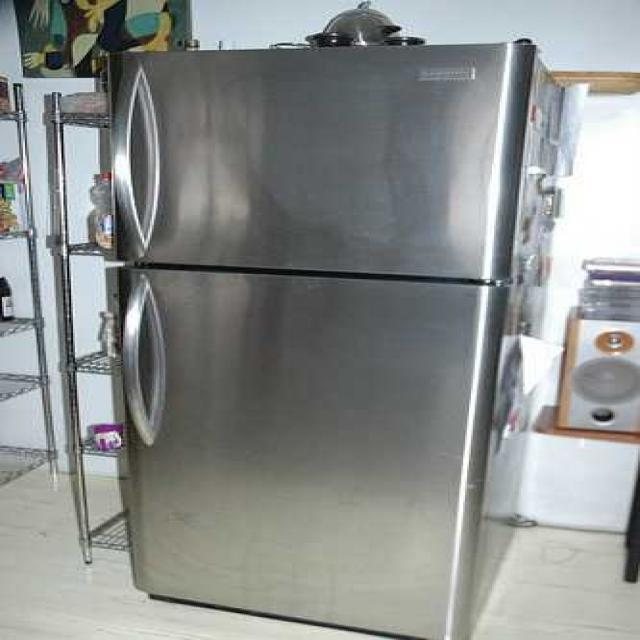refrigerator: (106, 48, 487, 640)
